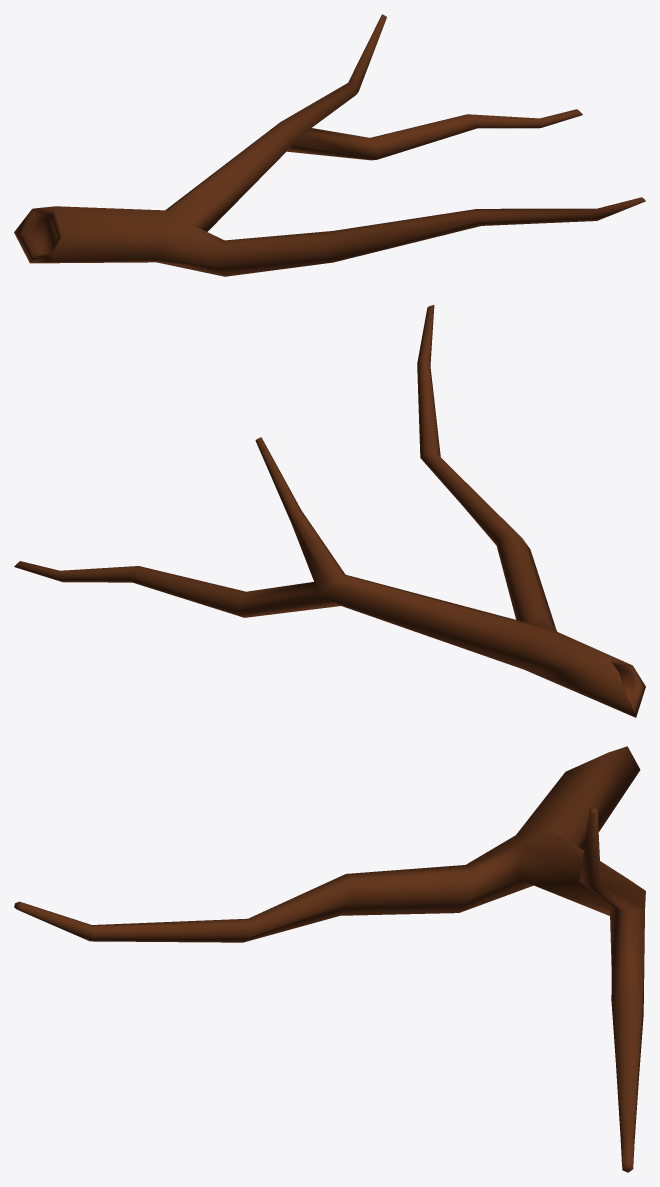
The model's file is branch.fbx.
The picture shows the model from 3 angles, top to bottom: view 1: azimuth 30°, elevation 25°; view 2: azimuth 150°, elevation 25°; view 3: azimuth 270°, elevation 25°; orthographic projection. The views are drawn at different scales.
Parts seen in each view (by area): view 1: branch; view 2: branch; view 3: branch.
Part boxes in pixels (bbox=[...]): branch: bbox=[14, 14, 645, 276]; branch: bbox=[14, 305, 645, 717]; branch: bbox=[14, 746, 645, 1172].
Size of the model in its own units: 320 by 94.08 by 225.
